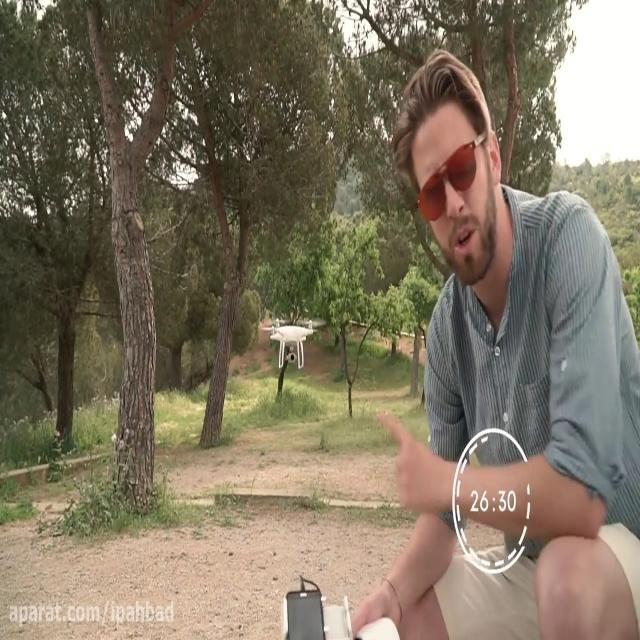drone: (258, 315, 326, 369)
